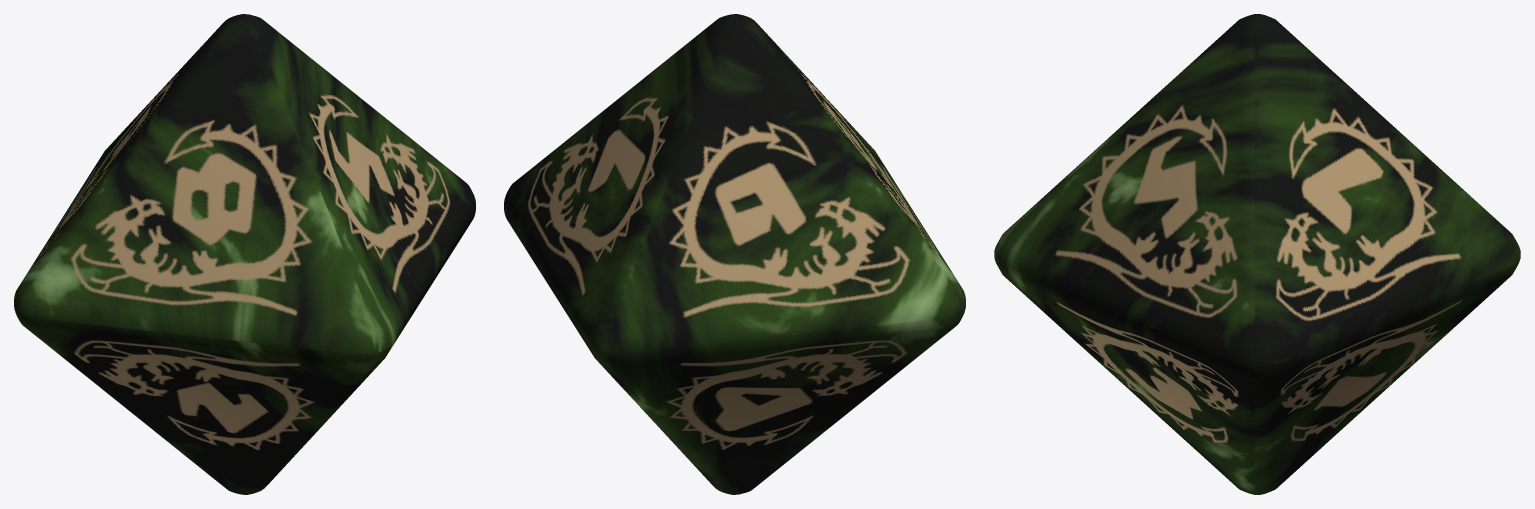
The model's file is d8_dragons_SDRA98.glb.
The picture shows the model from 3 angles, left to right: view 1: azimuth 30°, elevation 25°; view 2: azimuth 150°, elevation 25°; view 3: azimuth 270°, elevation 25°; orthographic projection.
Parts seen in each view (by area): view 1: Solid.004; view 2: Solid.004; view 3: Solid.004.
Part boxes in pixels (<box>): Solid.004: <box>14,14,475,494</box>; Solid.004: <box>504,14,965,494</box>; Solid.004: <box>994,14,1520,494</box>.
Bounding box in the file's own units: 183 × 183 × 183.
1 material, 1 textured.
